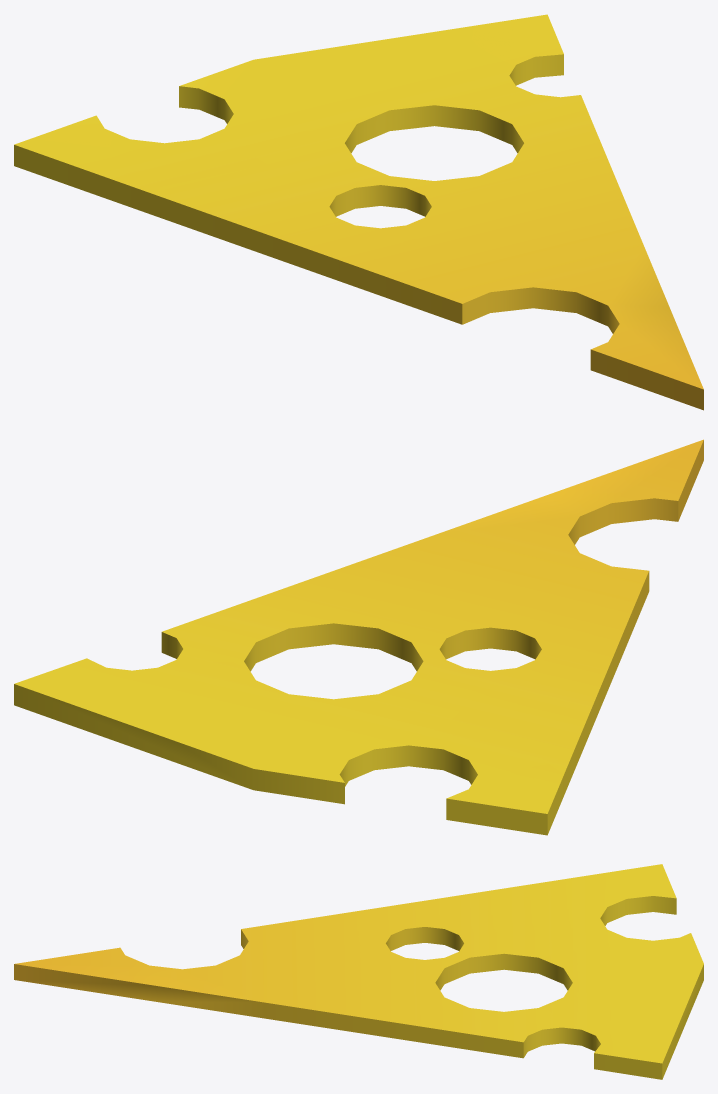
The model's file is Сheese_02.fbx.
3 views of the same model, one above another, from view 1: azimuth 30°, elevation 25°; view 2: azimuth 150°, elevation 25°; view 3: azimuth 270°, elevation 25° (orthographic). The views are drawn at different scales.
Visible parts, largest first — view 1: Сheese_02; view 2: Сheese_02; view 3: Сheese_02.
Part boxes in pixels (<box>): Сheese_02: <box>14,14,703,410</box>; Сheese_02: <box>14,439,703,835</box>; Сheese_02: <box>14,864,703,1079</box>.
Bounding box in the file's own units: 74.98 × 110 × 2.88.
